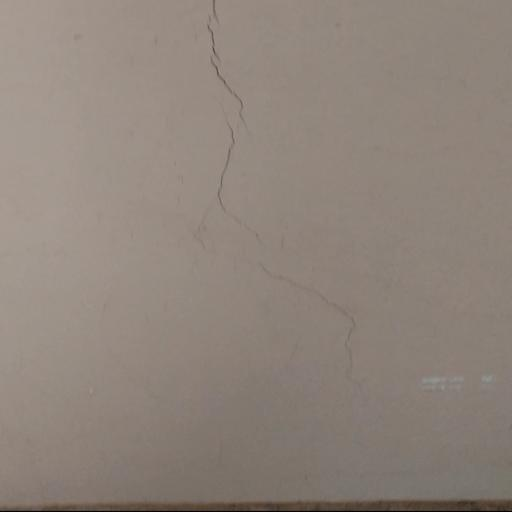minor_crack: (188, 0, 383, 431)
